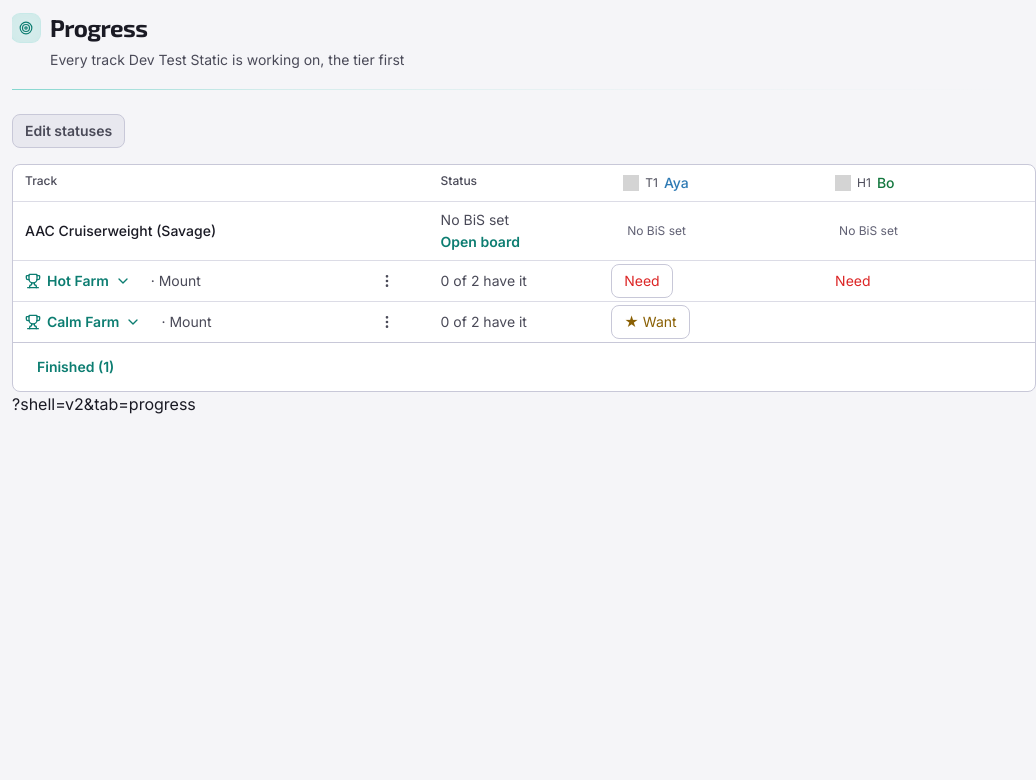
Scenario: ProgressPage ?track= writes › writes the opened row in place and removes it on close
This screenshot has width=1036, height=780.
Click the button "Hot Farm" at (78, 281), box [13,265,143,297]
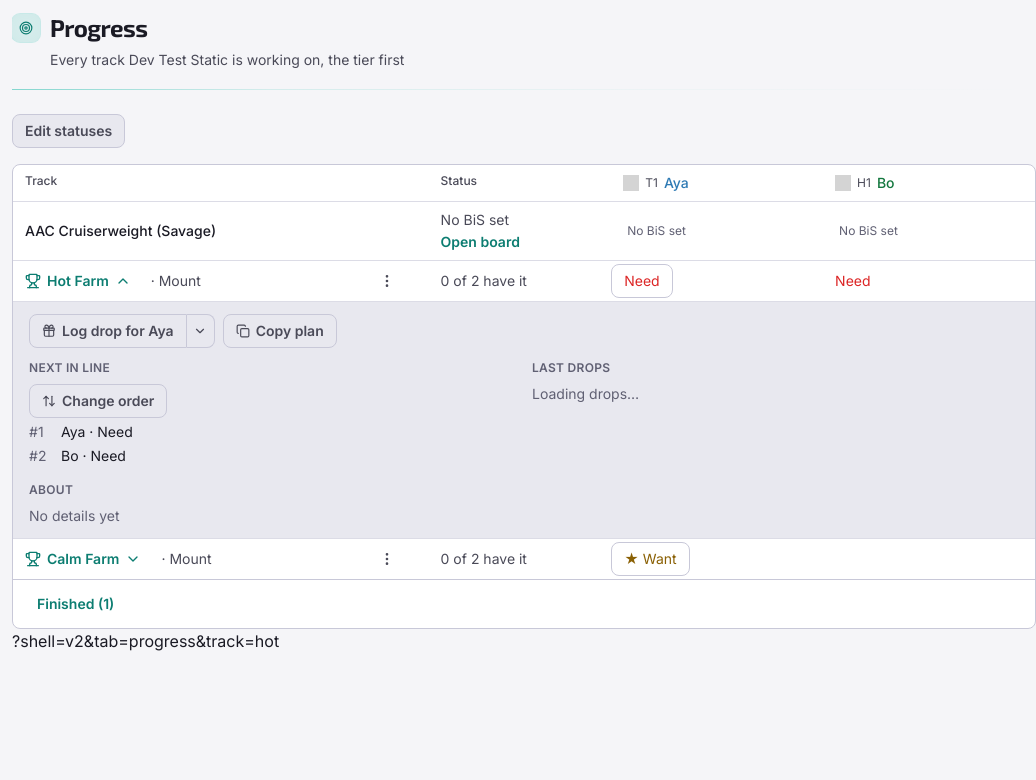
Click the button "Calm Farm" at (83, 559), box [13,543,154,575]
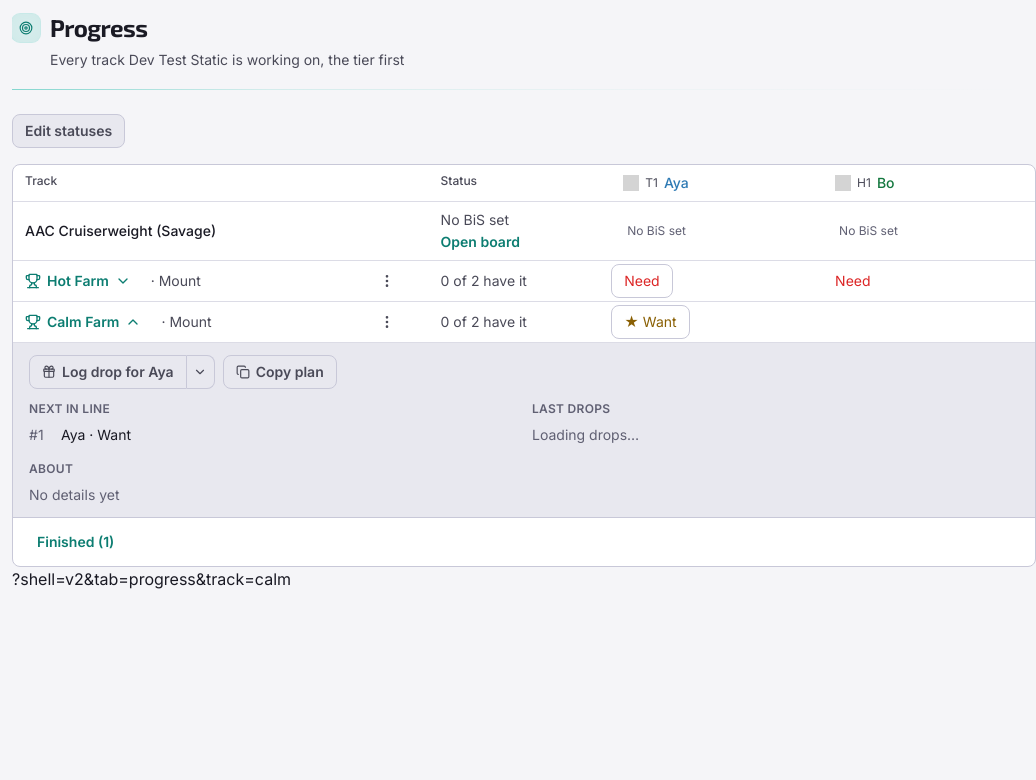
expect the number of rows with test id "progress-expansion" is 1: met, box [13,342,1035,518]
Click the button "Calm Farm" at (83, 322), box [13,306,154,338]
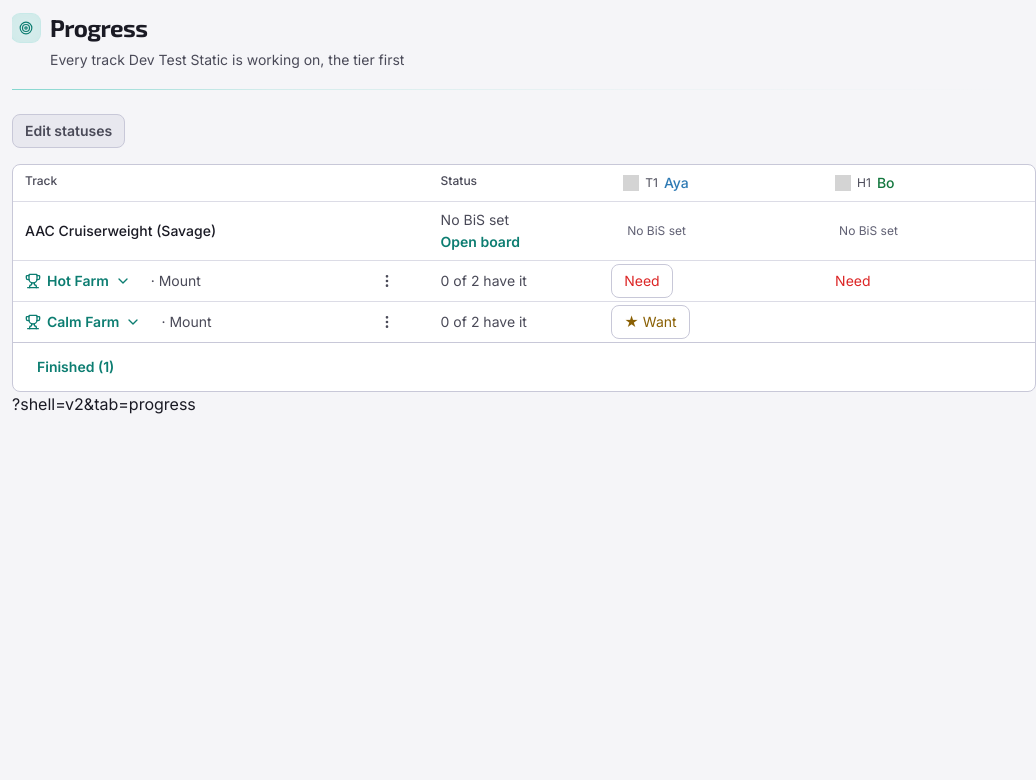
expect the row with test id "progress-expansion" is gone: met
